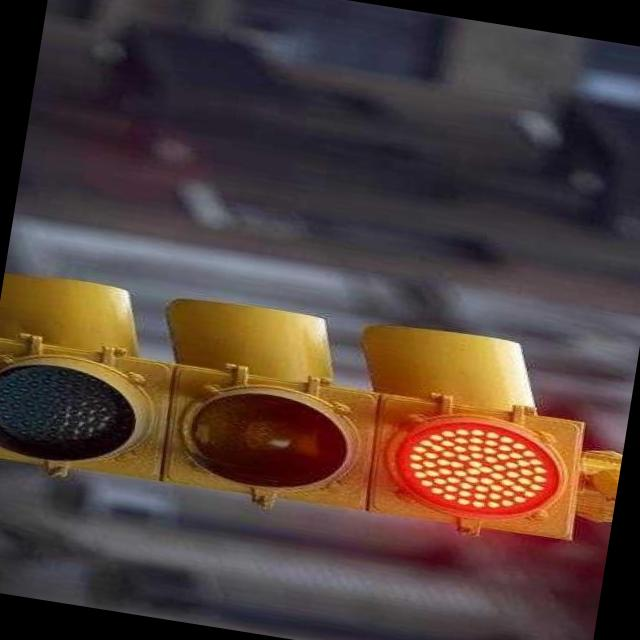red-lights: (359, 399, 580, 538)
